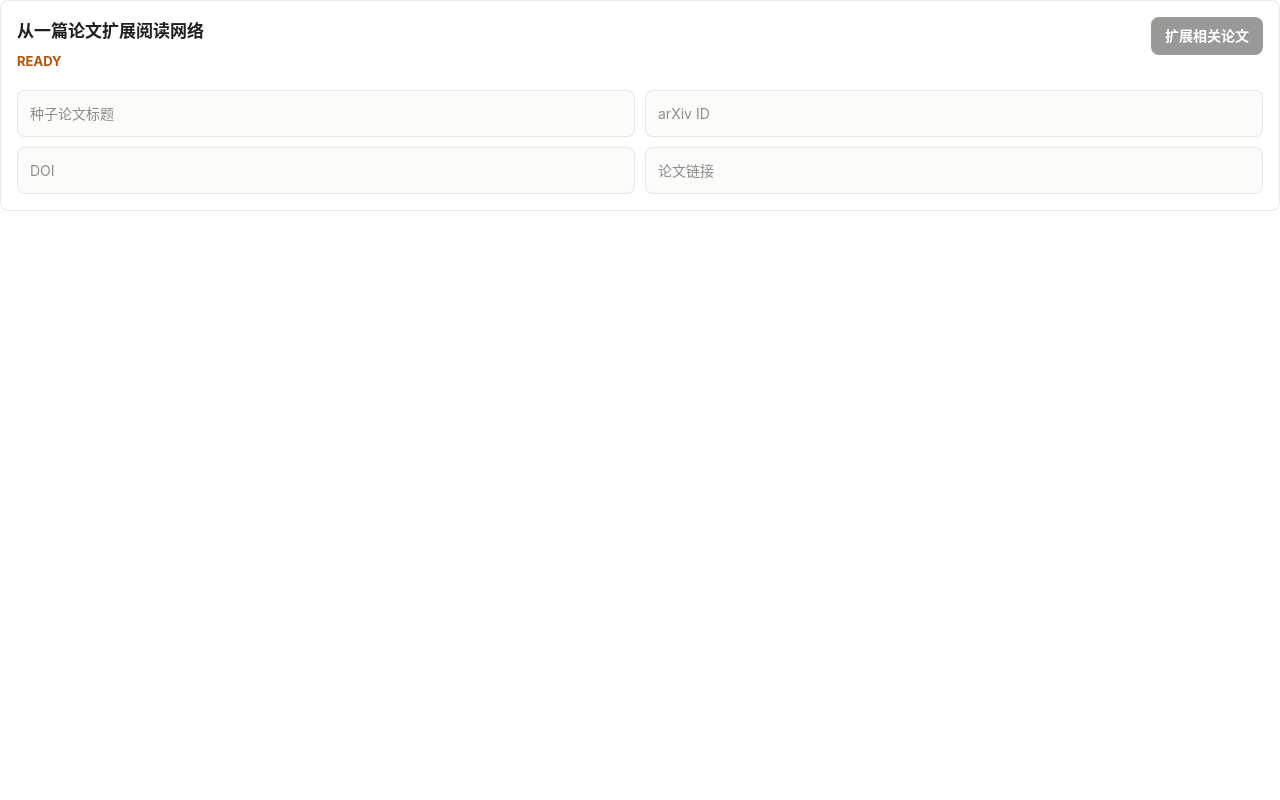
Test case: SeedExpansionPanel › shows DEGRADED warnings from partial source failures
The width and height of the screenshot is (1280, 800).
Type "Time Series Anomaly Detection" into the field with test id "seed-title-input" at (326, 113), box [17, 90, 635, 137]
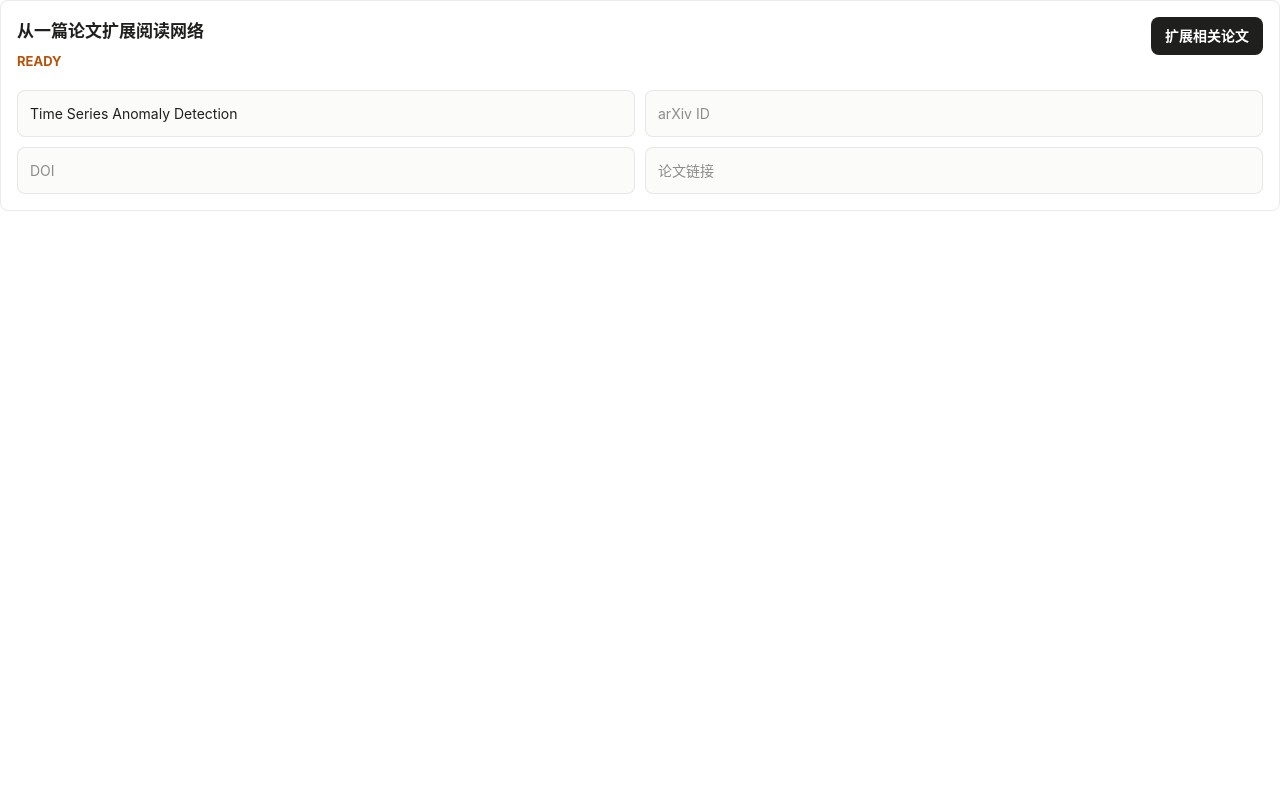
Click the button with test id "seed-expand-button" at (1207, 36), box [1151, 17, 1263, 55]
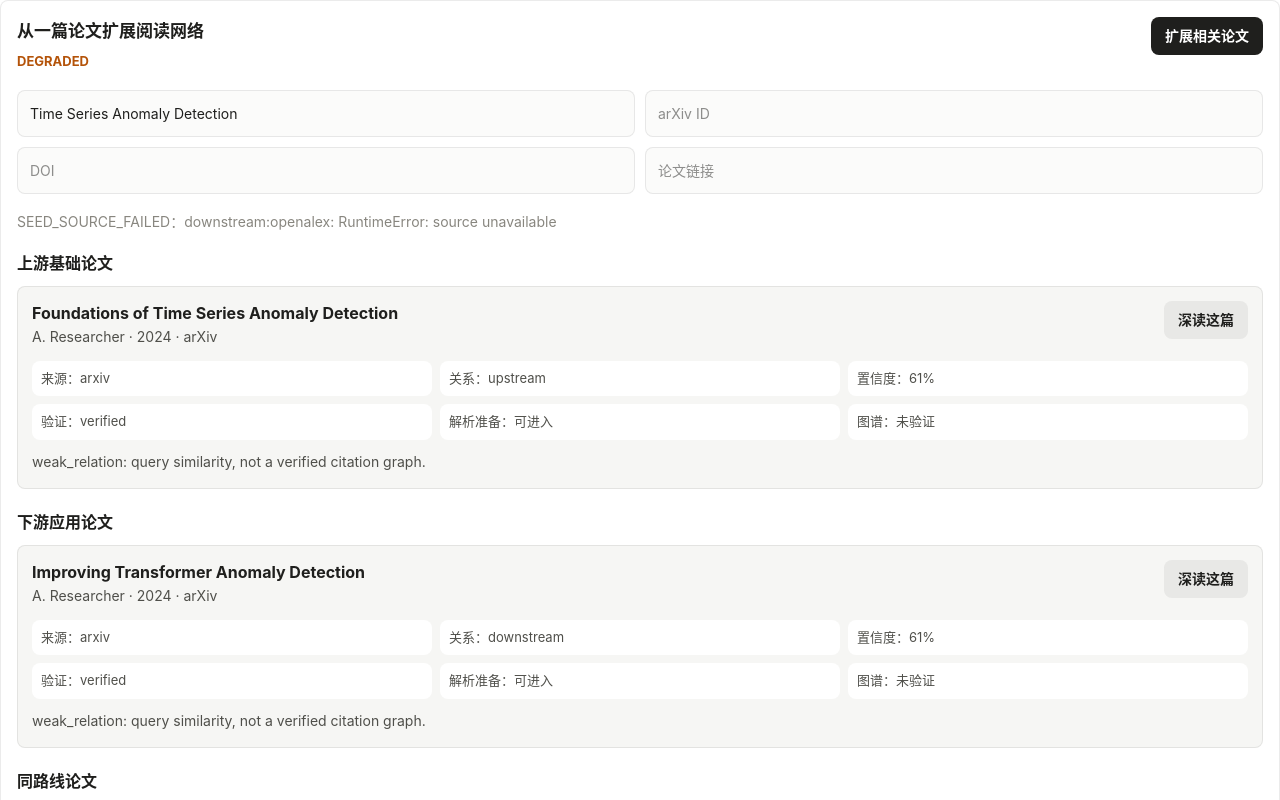
Expected: the text with test id "seed-status" reads "DEGRADED", [17, 53, 89, 69]
Expected: the text with test id "seed-warning" shows "SEED_SOURCE_FAILED", [17, 213, 557, 230]
